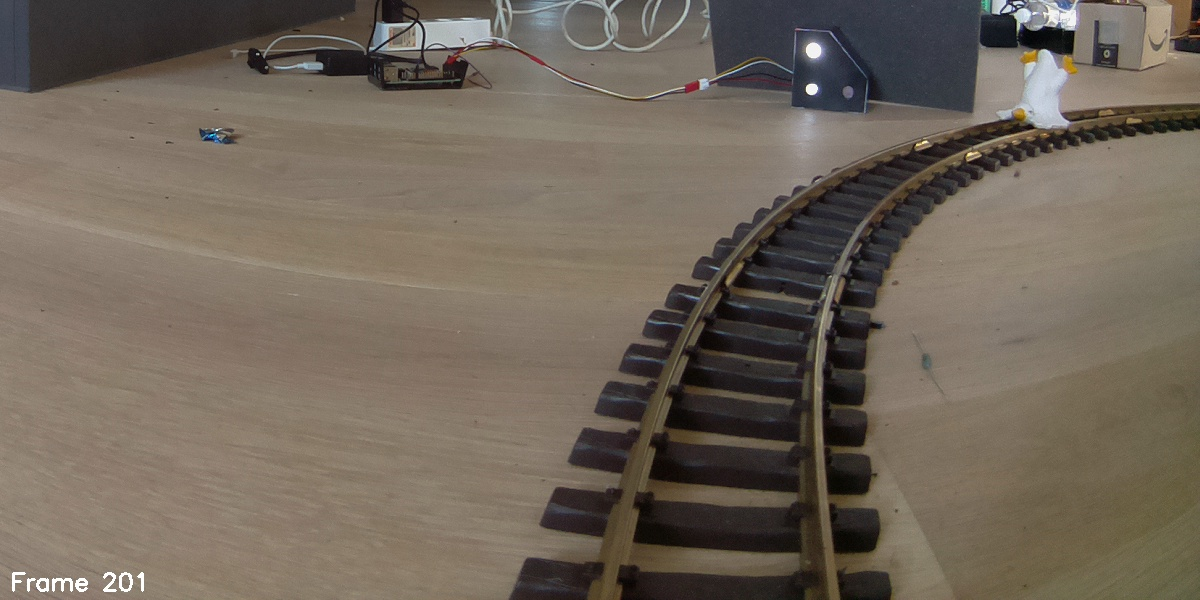Ente: (991, 42, 1073, 133)
Fahrt: (788, 22, 874, 117)
